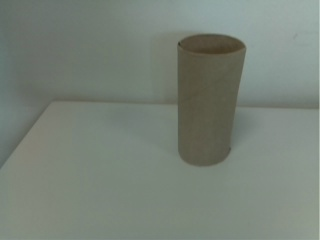rollo papel: (173, 33, 251, 170)
